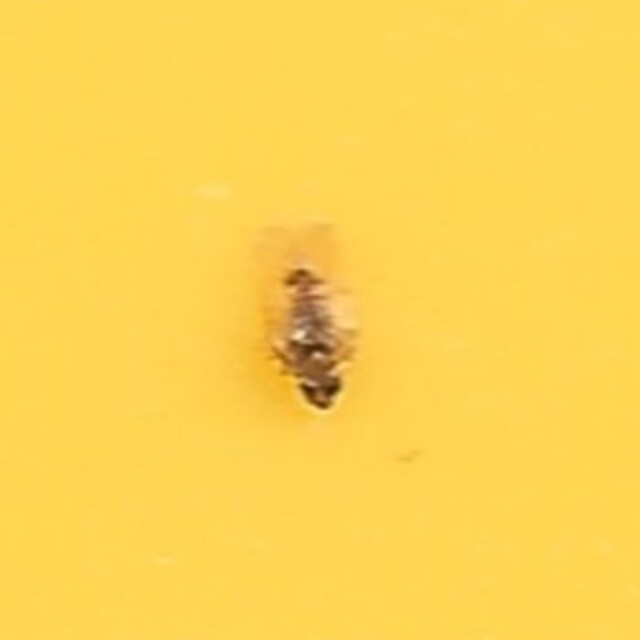Hemiptera: (256, 219, 384, 421)
